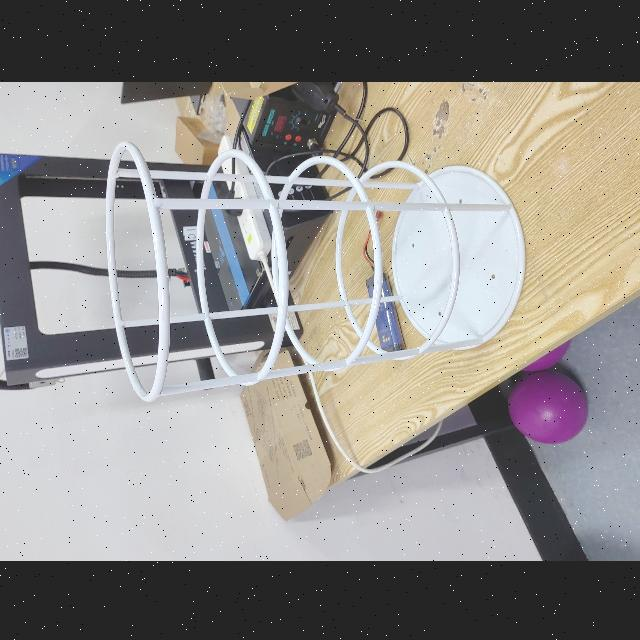S: (101, 134, 532, 404)
